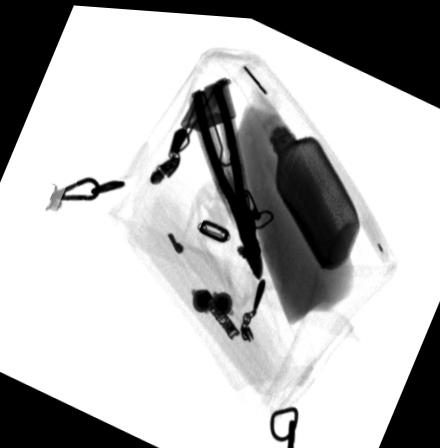Pliers: (190, 73, 262, 276)
